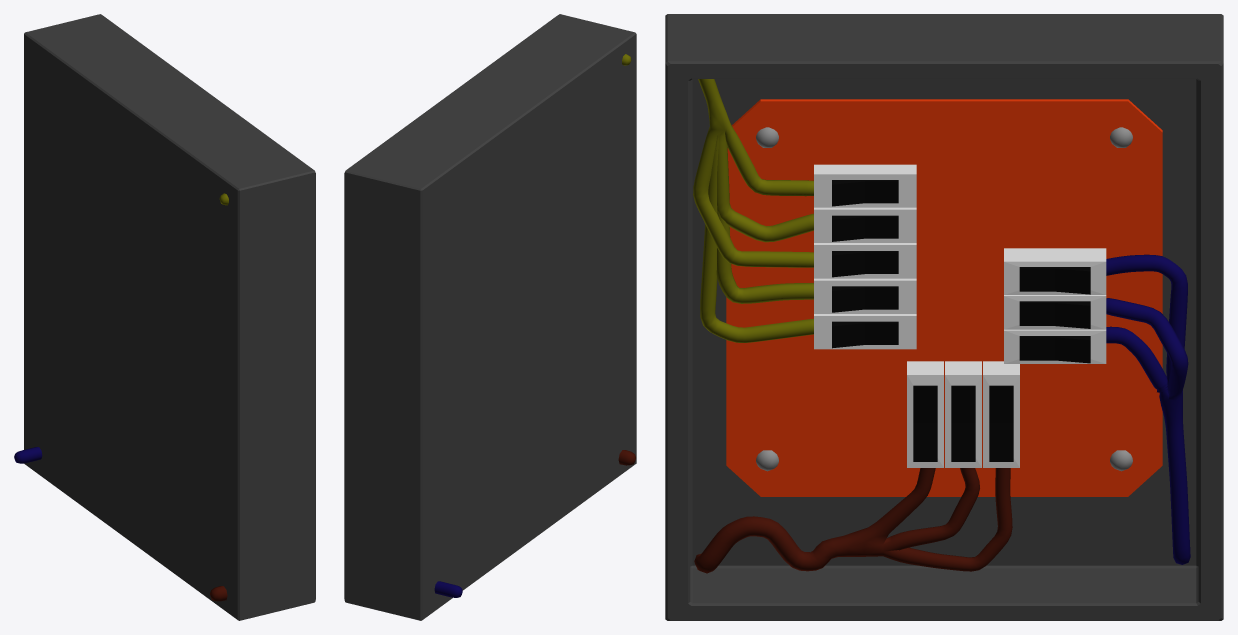
The model's file is Quadro_de_energia.fbx.
The picture shows the model from 3 angles, left to right: view 1: azimuth 30°, elevation 25°; view 2: azimuth 150°, elevation 25°; view 3: azimuth 270°, elevation 25°; orthographic projection. The views are drawn at different scales.
Visible parts, largest first — view 1: Cube.043; view 2: Cube.043; view 3: Cube.043, Cube.047, Cube.044, Cube.051, Cube.045, Cube.046, Cube.053, Cube.052, Icosphere.002.
Part boxes in pixels (bbox=[...]): Cube.043: bbox=[24, 14, 315, 620]; Cube.043: bbox=[344, 14, 636, 620]; Cube.043: bbox=[665, 14, 1223, 620]; Cube.047: bbox=[726, 99, 1162, 496]; Cube.044: bbox=[814, 164, 916, 349]; Cube.051: bbox=[693, 79, 813, 342]; Cube.045: bbox=[1004, 248, 1106, 363]; Cube.046: bbox=[907, 361, 1019, 467]; Cube.053: bbox=[694, 468, 1012, 573]; Cube.052: bbox=[1106, 254, 1190, 564]; Icosphere.002: bbox=[756, 127, 1132, 471].
Size of the model in its own units: 298 by 1205 by 1090.
